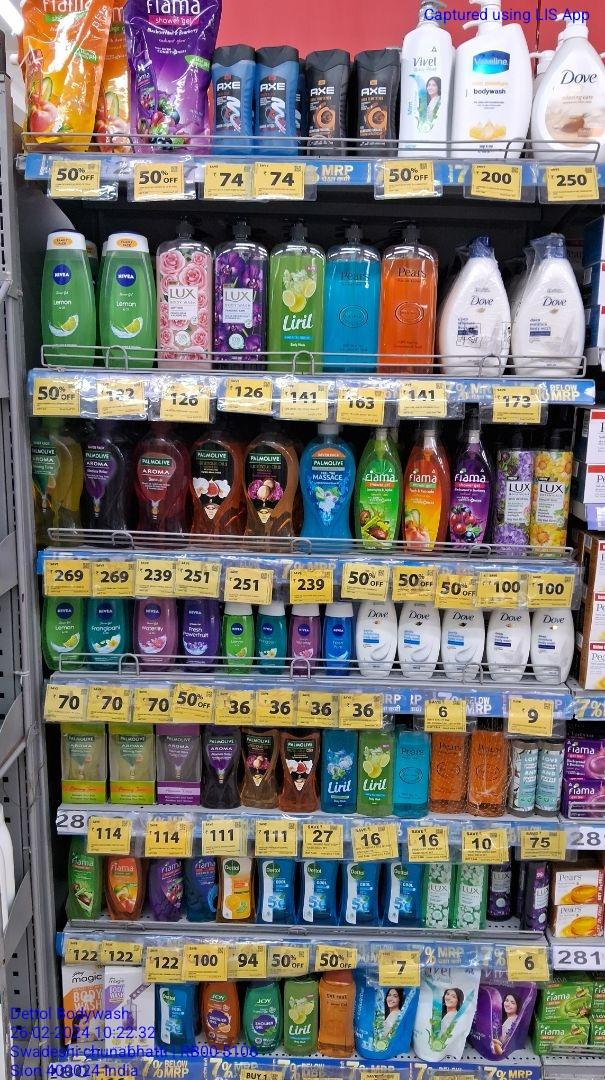Dettol_Bodywash_Cool: (157, 984, 199, 1051), (262, 858, 300, 926), (342, 863, 382, 927), (303, 860, 337, 925), (390, 865, 420, 926)
Dettol_Bodywash_Refresh: (221, 857, 254, 923)
Dove_Deep_Moisture_Body_Wash_250ML: (533, 608, 576, 685), (489, 608, 529, 682)
Dove_Gentle_Exfoliating_Body_Wash_250ML: (399, 603, 440, 679), (357, 601, 395, 682), (444, 610, 485, 679)
Joy_Shower_Gel_Mandarin_and_Lemongrass_250ML: (205, 981, 240, 1049)
Joy_Shower_Gel_Mint_and_Eucalyptus_250ML: (244, 985, 281, 1052)
Liril_Cooling_Mint_Body_Wash_250ML: (323, 727, 357, 813)
Liril_Lime_and_Tea_Tree_Oil_Body_Wash_250ML: (359, 731, 392, 817)
Lux_Black_Orchid_Scent_and_Juniper_Oil_Body_Wash_245ML: (527, 862, 549, 933)
Lux_Body_Wash_Skin_Detox_Freesia_Scent_and_Alove_Vera_245ML: (459, 865, 486, 932), (424, 863, 451, 929)
Nivea_Shower_Gel_Frangipani_and_Oil_250ML: (91, 597, 127, 670)
Nivea_Shower_Gel_Lemon_and_Oil_250ML: (43, 229, 97, 365), (104, 232, 157, 367), (45, 600, 87, 674)
Nivea_Shower_Gel_Waterlily_and_Oil_250ML: (136, 598, 174, 670)
Palmolive_Aroma_Relax_250ML: (78, 423, 135, 546), (201, 727, 243, 808)
Palmolive_Luminous_Oils_Invigorating_Macadamia_Oil_With_Peony_250ML: (242, 417, 298, 548), (244, 727, 279, 807)
Palmolive_Luminous_Oils_With_White_Orchid_Shower_Gel_250ML: (188, 418, 236, 547), (281, 727, 320, 812)
Pears_Pure_Glycerin_and_Mint_Extracts_Body_Wash_250ML: (396, 724, 431, 817)
